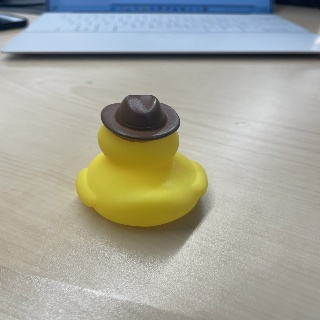duck_specialty: (73, 91, 207, 226)
